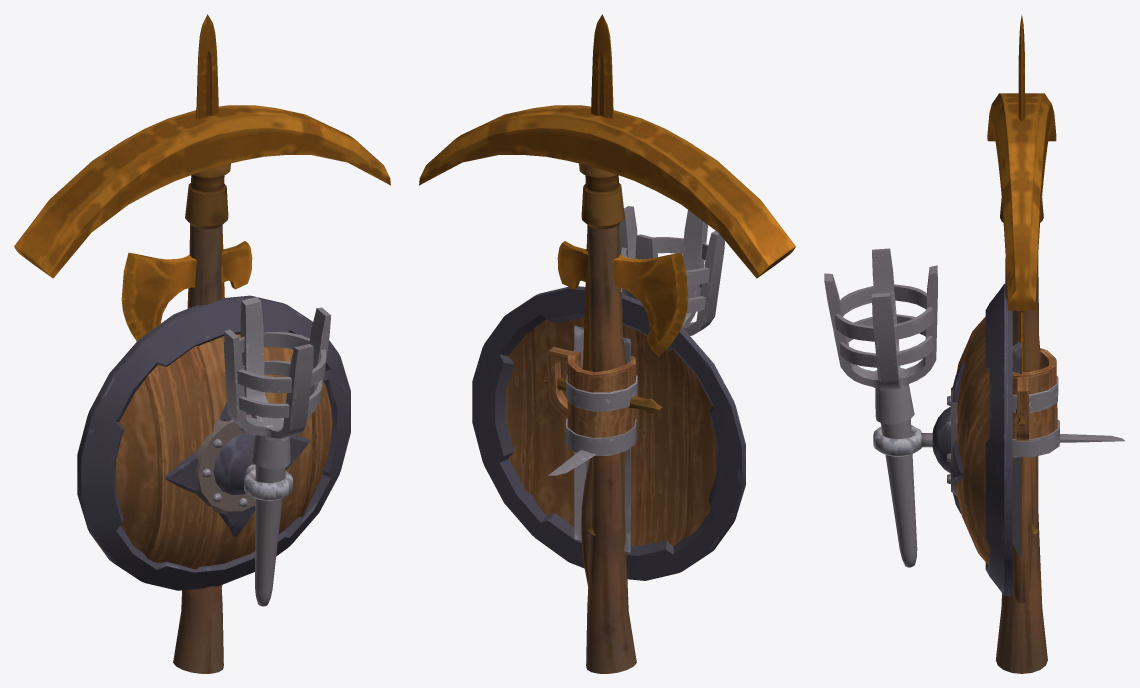
The model's file is weapons.glb.
3 renders of one model, left to right at view 1: azimuth 30°, elevation 25°; view 2: azimuth 150°, elevation 25°; view 3: azimuth 270°, elevation 25°, orthographic.
Visible parts, largest first — view 1: Shield_Wooden, Pickaxe_Bronze, Torch_Metal, Axe_Bronze, Sword_Bronze; view 2: Shield_Wooden, Pickaxe_Bronze, Torch_Metal, Mug, Axe_Bronze, Sword_Bronze; view 3: Torch_Metal, Pickaxe_Bronze, Shield_Wooden, Mug, Axe_Bronze, Sword_Bronze, Table_Knife.
Part boxes in pixels (x1,y1,x2,y2): Shield_Wooden: (77,295,350,590); Pickaxe_Bronze: (14,105,390,673); Torch_Metal: (224,297,331,606); Axe_Bronze: (121,241,252,587); Sword_Bronze: (196,14,224,298); Shield_Wooden: (472,286,745,580); Pickaxe_Bronze: (419,105,795,673); Torch_Metal: (574,206,724,552); Mug: (545,347,637,455); Axe_Bronze: (557,241,688,587); Sword_Bronze: (542,14,662,535); Torch_Metal: (824,248,1021,567); Pickaxe_Bronze: (987,93,1056,673); Shield_Wooden: (932,283,1012,596); Mug: (1012,348,1059,457); Axe_Bronze: (1012,310,1032,603); Sword_Bronze: (1016,14,1038,534); Table_Knife: (1060,434,1125,442).
Size of the model in its own units: 0.8129 by 1.42 by 0.5926.
Materials: 3 (3 with a texture image).
